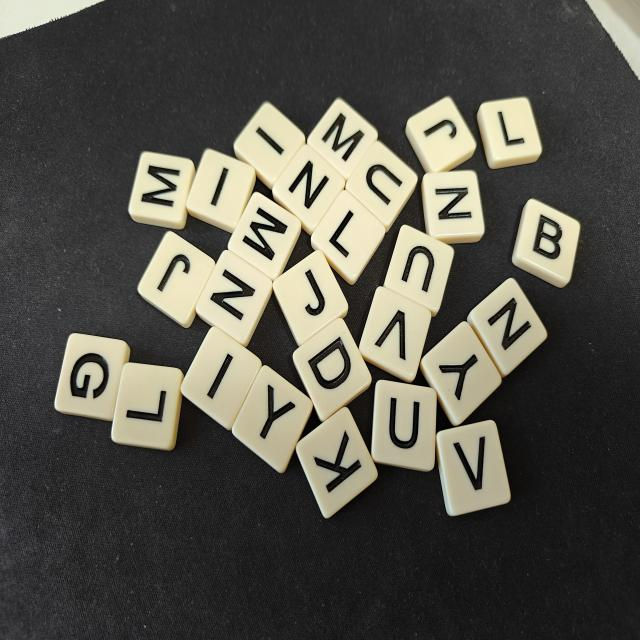b: (512, 199, 580, 287)
d: (293, 318, 371, 421)
g: (54, 333, 130, 420)
i: (181, 327, 262, 430), (233, 102, 305, 189), (186, 149, 256, 232)
j: (138, 231, 215, 328), (273, 250, 348, 346), (405, 96, 477, 172)
k: (296, 407, 378, 518)
l: (311, 190, 385, 285), (111, 362, 183, 450), (477, 96, 542, 169)
m: (228, 192, 301, 281), (307, 98, 378, 181), (128, 151, 195, 229)
n: (467, 278, 547, 377), (196, 250, 272, 346), (273, 145, 345, 234), (421, 170, 485, 244)
u: (346, 141, 418, 231), (384, 225, 454, 316), (371, 380, 437, 471)
v: (436, 420, 510, 516), (359, 287, 431, 382)
y: (232, 366, 313, 473), (420, 322, 502, 426)
